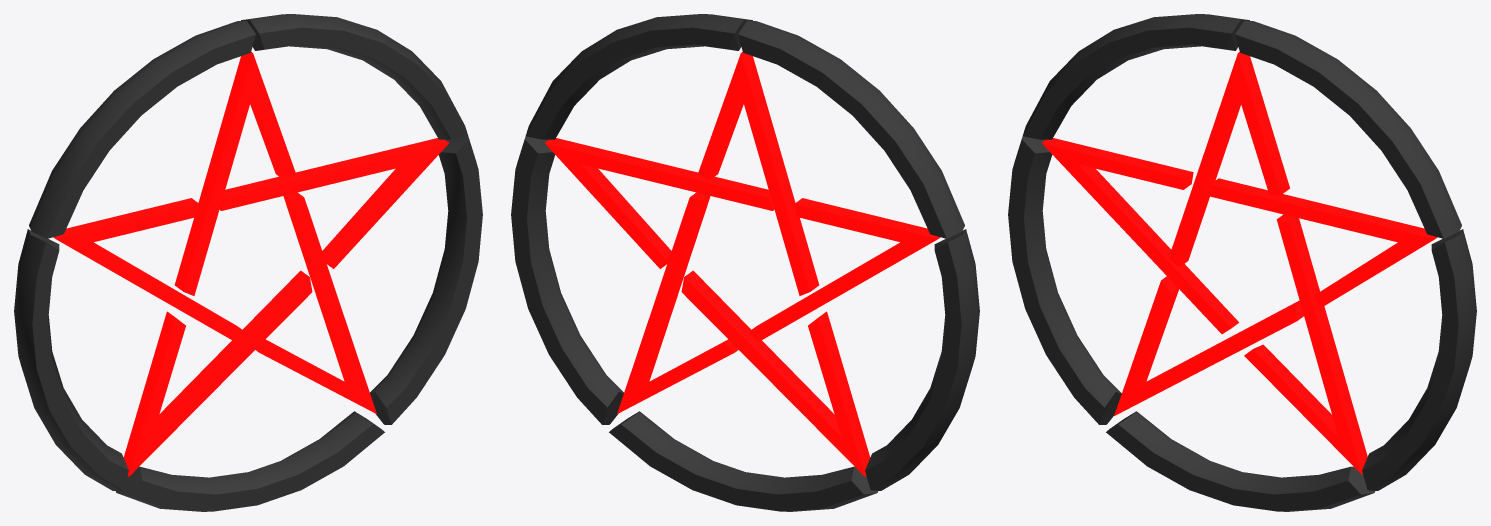
The model's file is blood_talisman.glb.
3 views of the same model, side by side, from view 1: azimuth 30°, elevation 25°; view 2: azimuth 150°, elevation 25°; view 3: azimuth 330°, elevation 25° (orthographic).
Visible parts, largest first — view 1: Pentacle; view 2: Pentacle; view 3: Pentacle.
Boxes of the visible parts, x1,y1,x2,y2 form: Pentacle: [14, 14, 482, 511]; Pentacle: [511, 14, 979, 511]; Pentacle: [1008, 14, 1476, 511].
Size of the model in its own units: 292 by 292 by 20.
